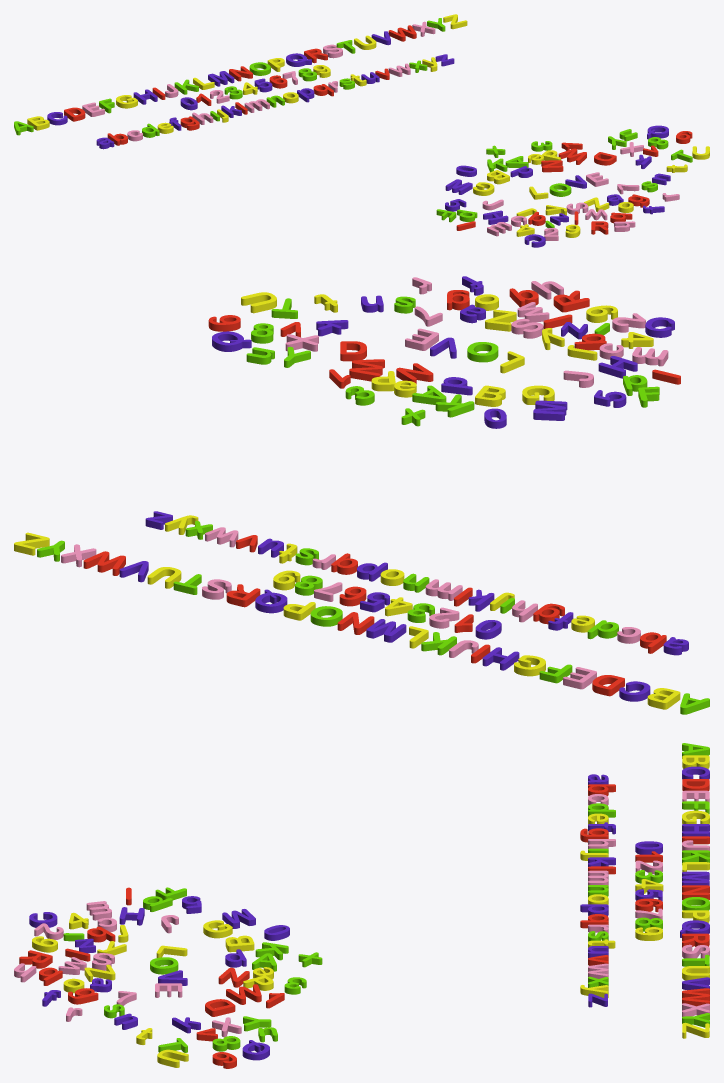
The picture shows the model from 3 angles, top to bottom: view 1: azimuth 30°, elevation 25°; view 2: azimuth 150°, elevation 25°; view 3: azimuth 270°, elevation 25°; orthographic projection. The views are drawn at different scales.
Bounding box in the file's own units: 32.65 × 29.72 × 0.4253.
